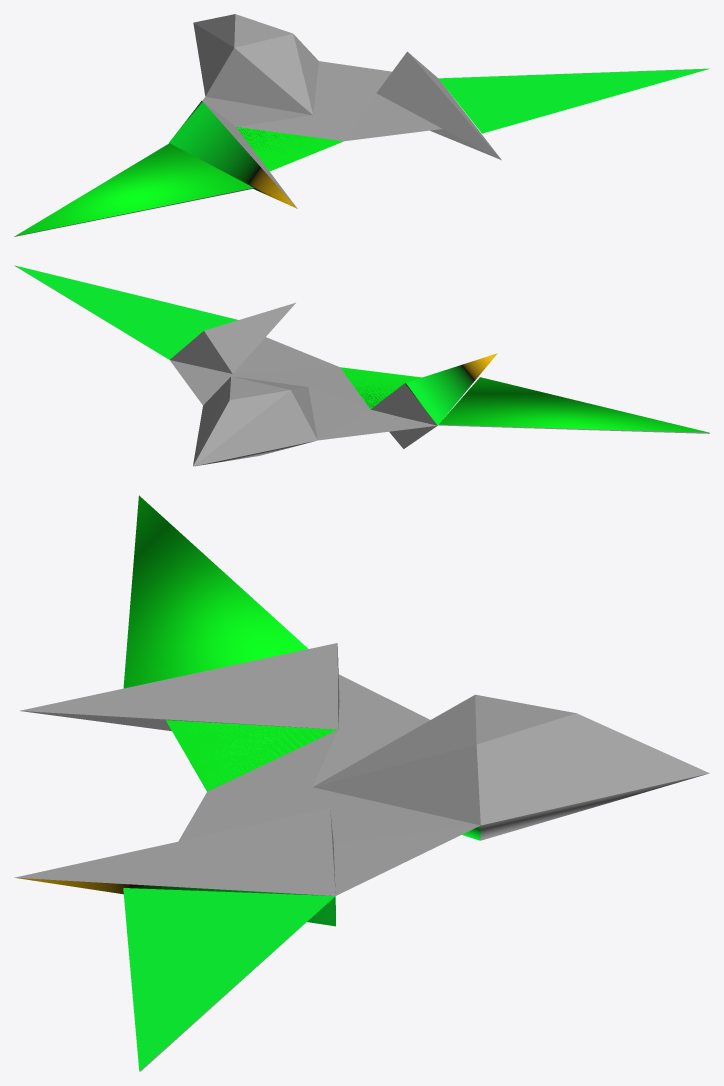
Rendered from newship.obj.
3 views of the same model, one above another, from view 1: azimuth 30°, elevation 25°; view 2: azimuth 150°, elevation 25°; view 3: azimuth 270°, elevation 25° (orthographic). The views are drawn at different scales.
Parts seen in each view (by area): view 1: Plane.003_Plane.002; view 2: Plane.003_Plane.002; view 3: Plane.003_Plane.002.
Boxes of the visible parts, left/top/right/bottom form: Plane.003_Plane.002: left=14, top=14, right=709, bottom=236; Plane.003_Plane.002: left=14, top=265, right=709, bottom=466; Plane.003_Plane.002: left=14, top=495, right=709, bottom=1071.
Size of the model in its own units: 2.51 by 0.2698 by 1.29.
